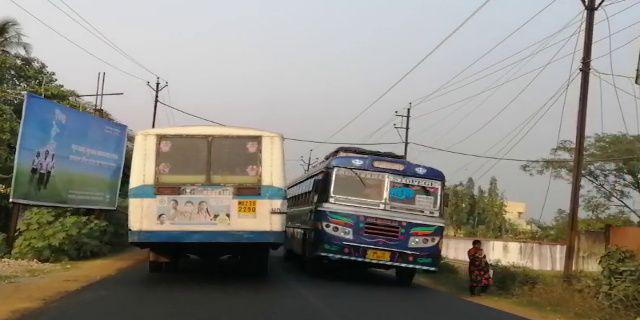Bus: (118, 125, 289, 275), (286, 143, 450, 288)
